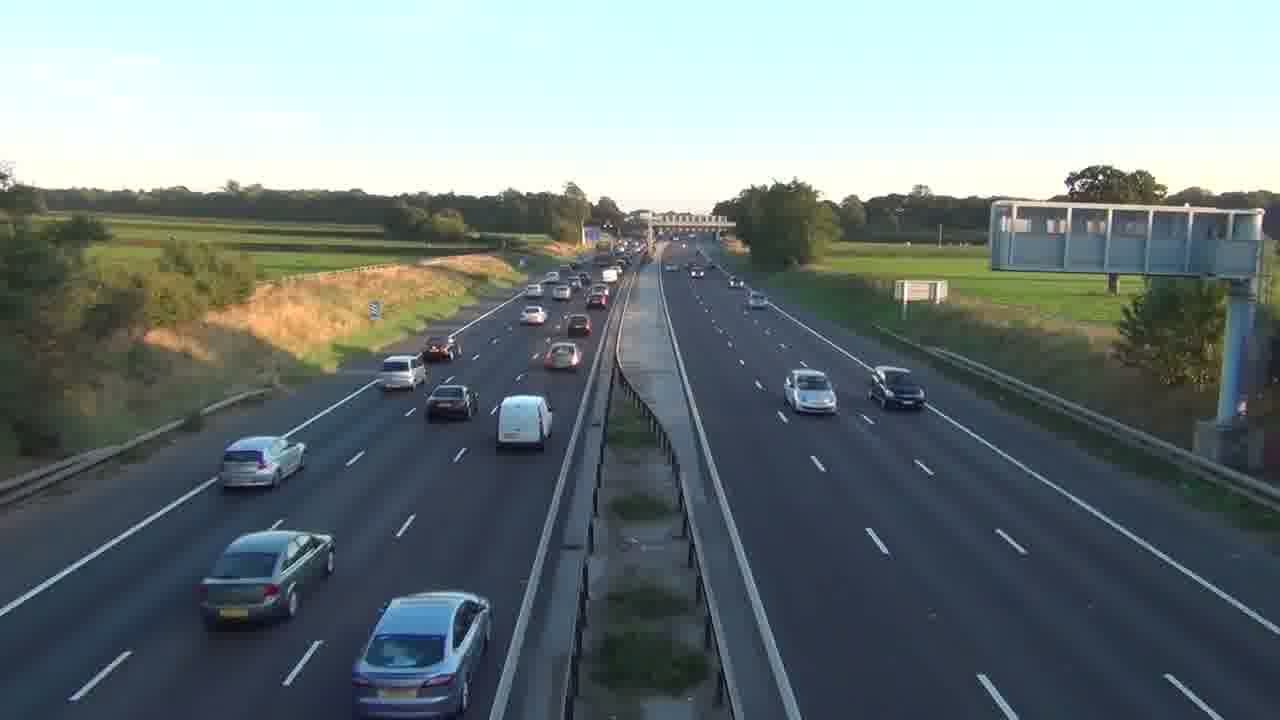car: (350, 590, 494, 718), (194, 526, 336, 631), (218, 434, 307, 490), (783, 367, 838, 415), (867, 366, 927, 410), (425, 382, 479, 422), (545, 341, 583, 370), (564, 313, 592, 339)
truck: (194, 526, 336, 631)
